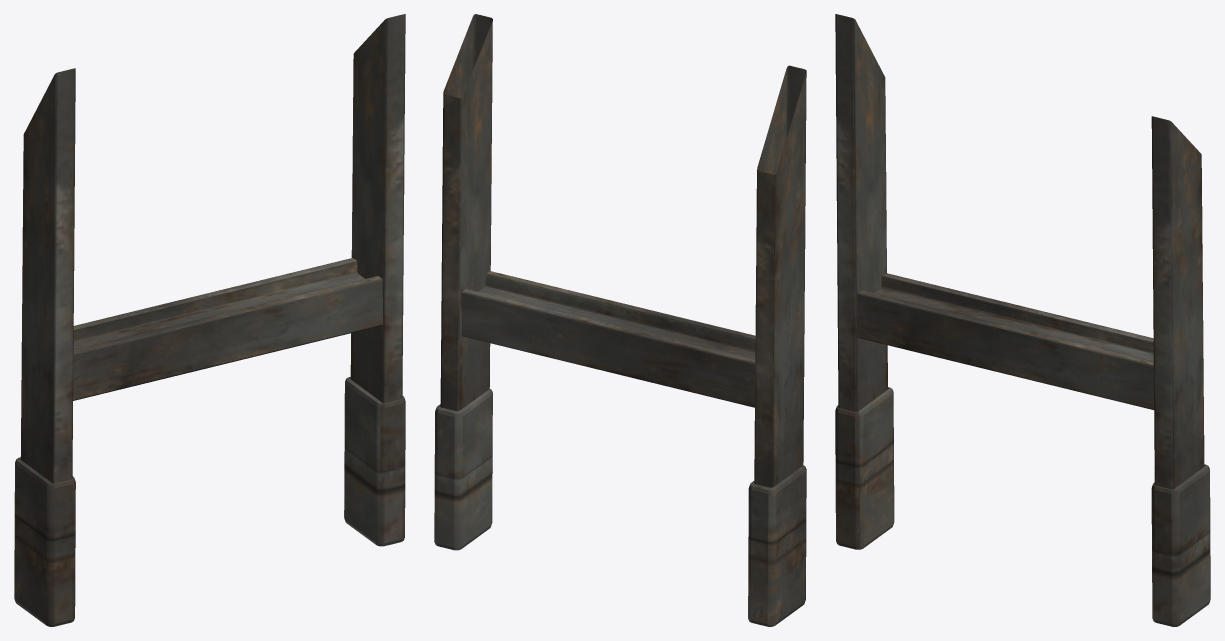
File: wall_000.glb
The picture shows the model from 3 angles, left to right: view 1: azimuth 30°, elevation 25°; view 2: azimuth 150°, elevation 25°; view 3: azimuth 330°, elevation 25°; orthographic projection. The views are drawn at different scales.
Visible parts, largest first — view 1: Building_12_044; view 2: Building_12_044; view 3: Building_12_044.
Boxes of the visible parts, x1=… form: Building_12_044: x1=14, y1=14, x2=405, y2=626; Building_12_044: x1=434, y1=14, x2=806, y2=626; Building_12_044: x1=835, y1=14, x2=1210, y2=626.
Size of the model in its own units: 1.34 by 2 by 0.2626.
1 material, 1 textured.
